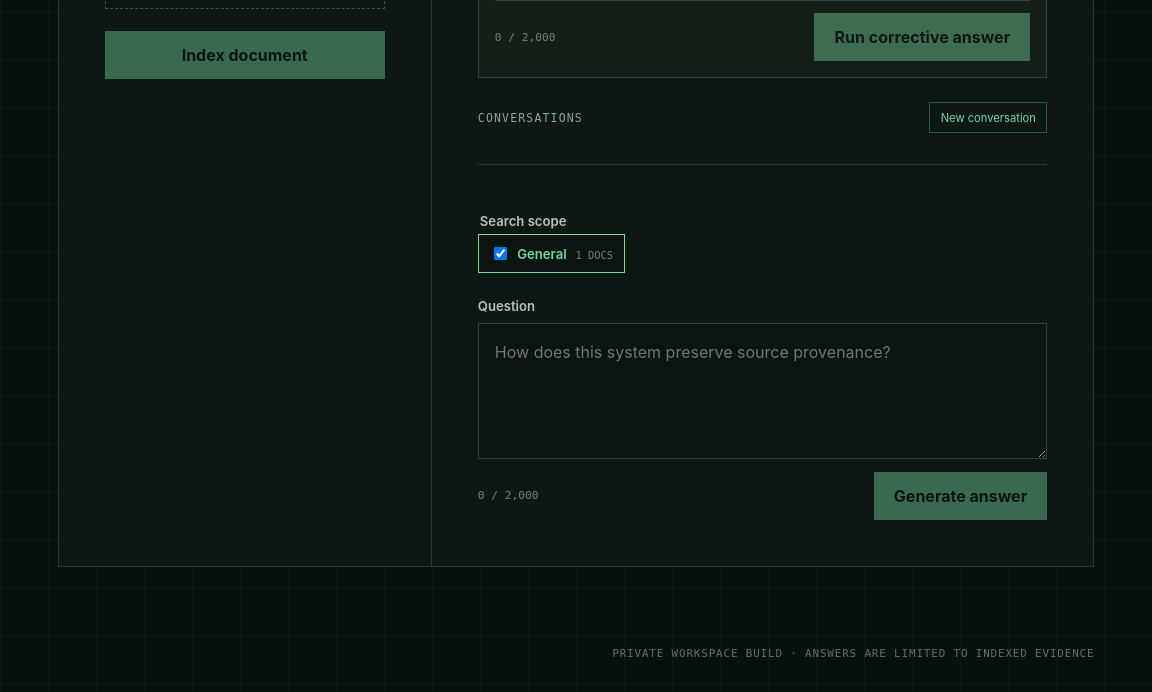
Scenario: shows the API error message without discarding the question
(page scrolled)
Type "What happened?" into the text box labelled "Question" at (763,391), box left=478, top=323, right=1047, bottom=459
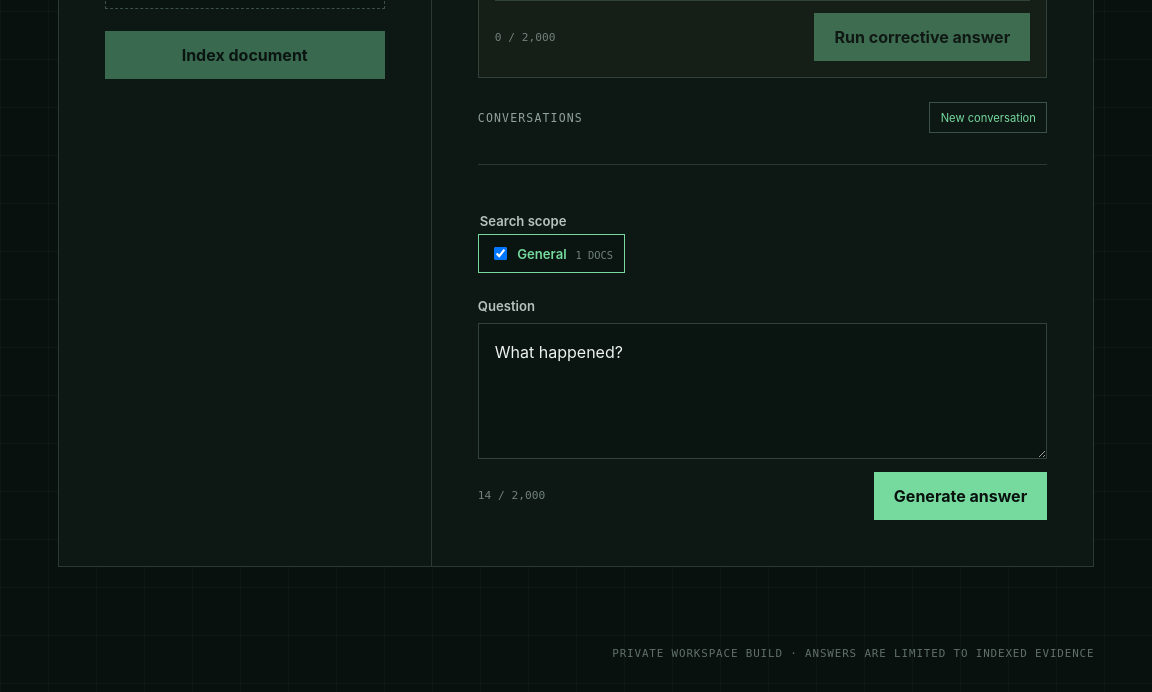
Click the button "Generate answer" at (961,496), box left=874, top=472, right=1047, bottom=520
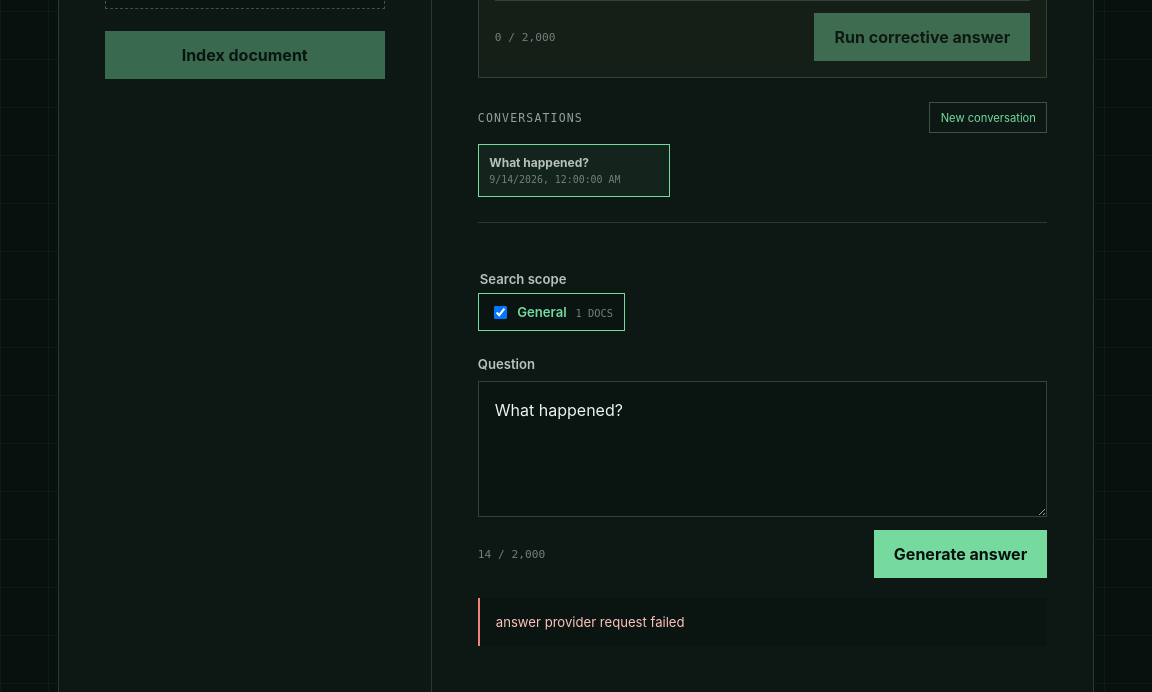
expect the message reads "answer provider request failed": met, box left=496, top=614, right=684, bottom=630
